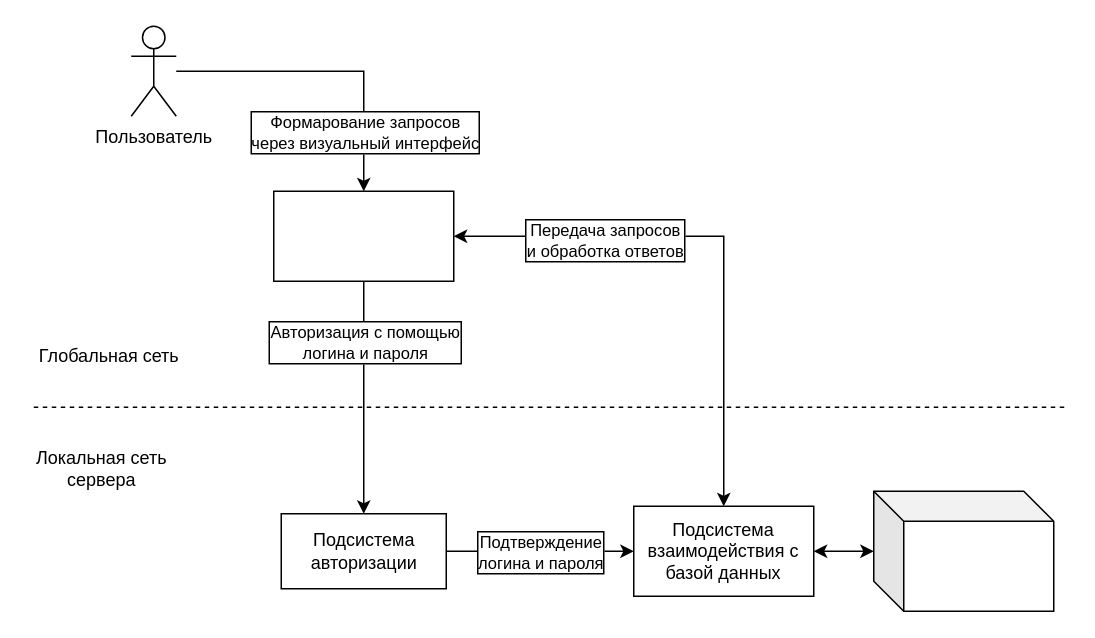
Image size: 1095x638. Some labels were removed from this diagram. Each missing label, with the centre of its shape:
База данных PostgreSQL: point 963,550
Программа: point 363,235
